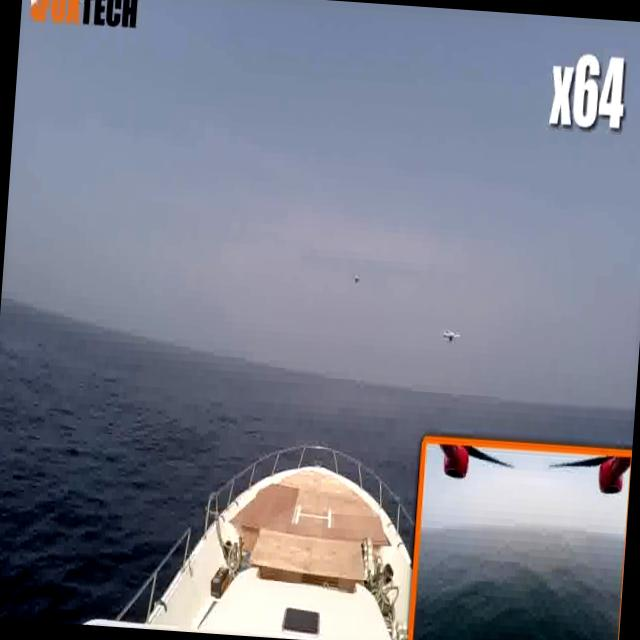drone: (438, 324, 463, 349)
